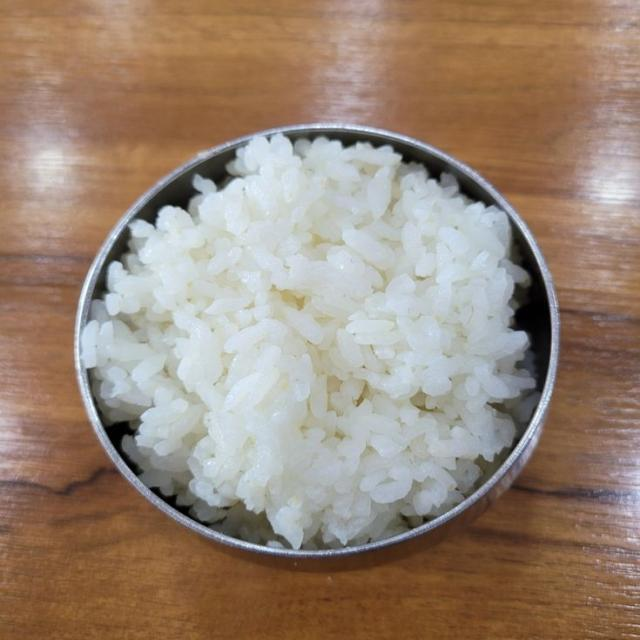rice: (82, 136, 534, 548)
